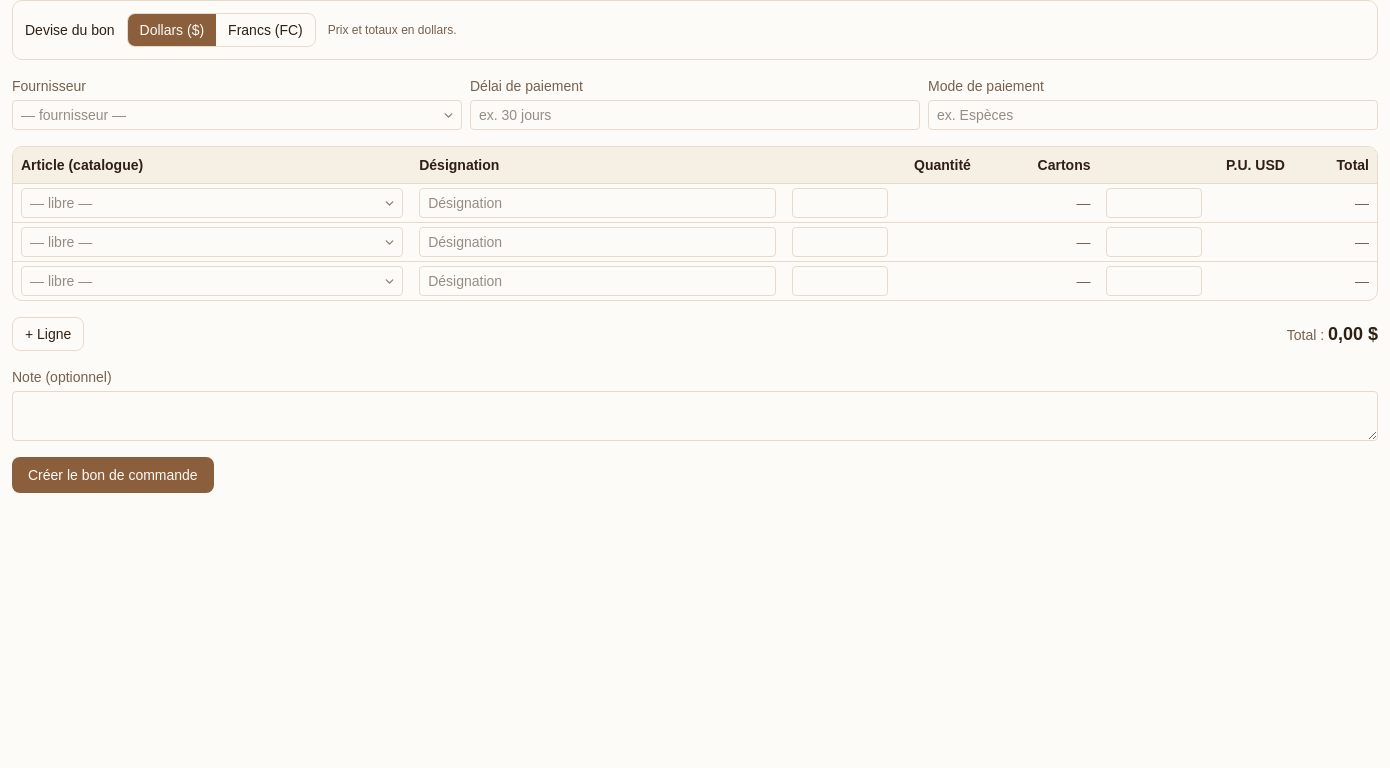
bon de commande — devise du bon › en francs : en-tête « P.U. FC », le prix du catalogue en dollars est proposé CONVERTI au taux du jour, annoncé « ≈ »
The image size is (1390, 768).
Click the button "Francs (FC)". click: [265, 30]
box: top-left (216, 14), bottom-right (315, 46)
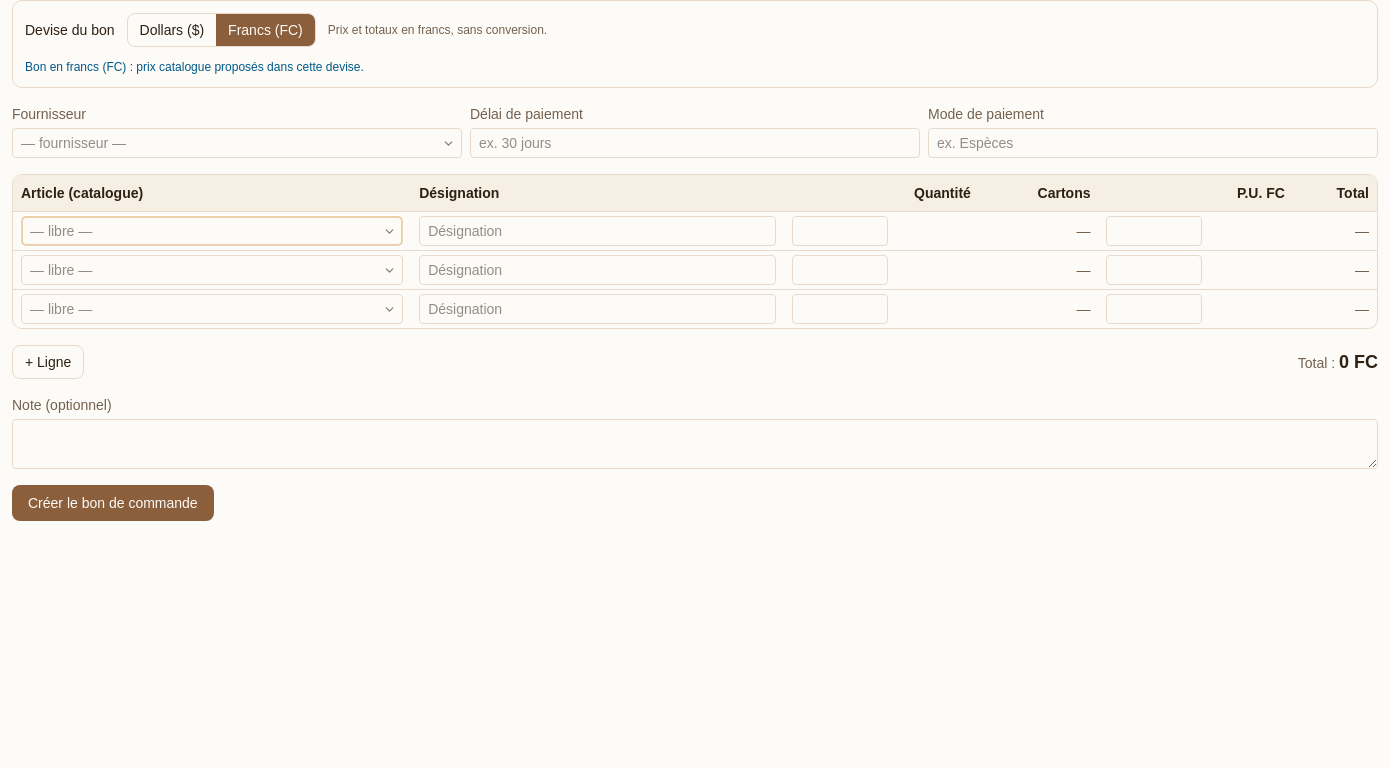
Expected: the text "P.U. FC" is shown, top-left (1098, 175), bottom-right (1293, 212)
Click the 1st dropdown with placeholder "— libre —". click: [212, 231]
box: top-left (21, 216), bottom-right (403, 246)
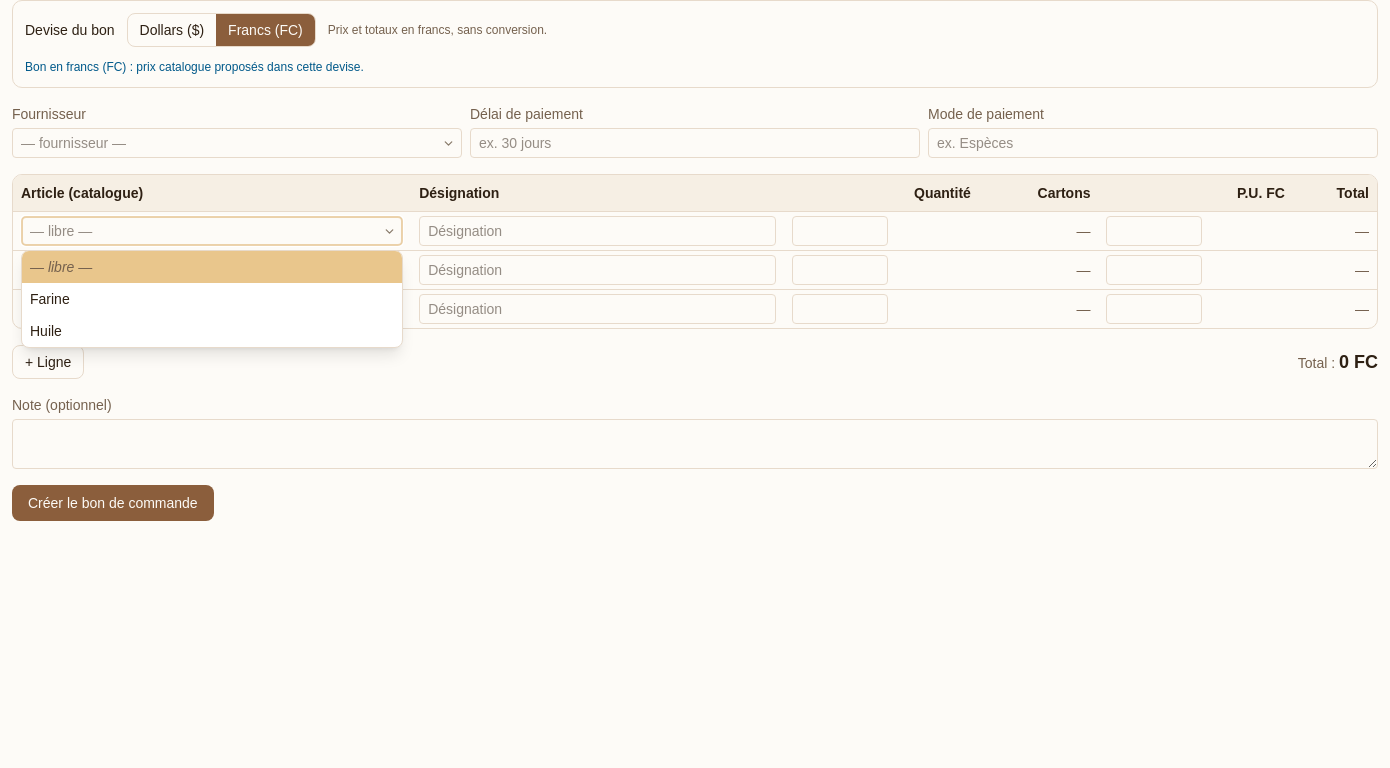
Click the option "Farine". click: [50, 299]
box: top-left (30, 291), bottom-right (70, 307)
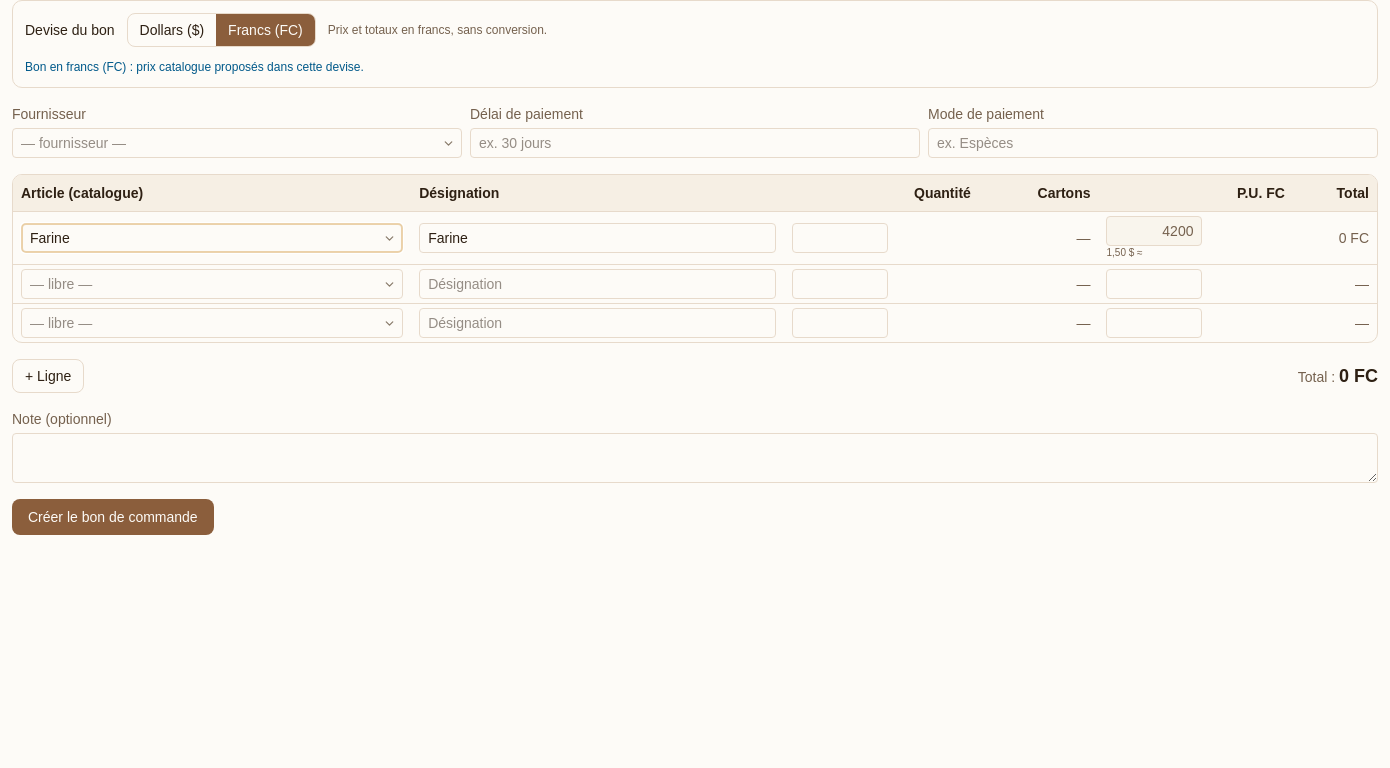
Expected: the text "1,50 $ ≈" is shown, top-left (1106, 247), bottom-right (1143, 258)
